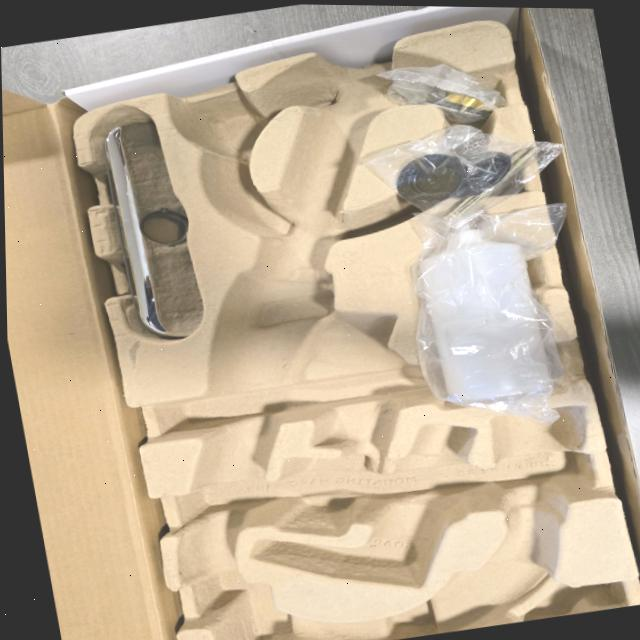1m: (180, 38, 585, 640)
2m: (256, 422, 477, 585)
3: (414, 212, 553, 404)
4: (104, 121, 201, 335)
5m: (185, 98, 264, 159)
6: (373, 64, 507, 127)
7: (357, 123, 564, 239)
